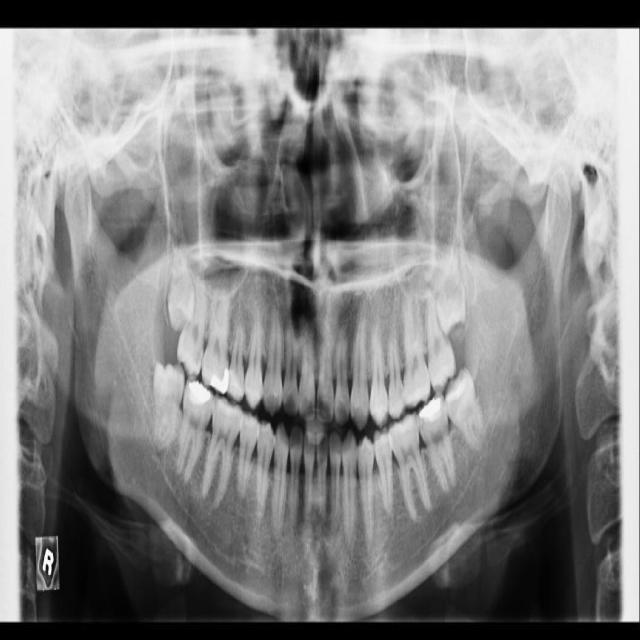3M ESPE Implant: (164, 227, 195, 333)
52: (433, 364, 486, 430), (177, 375, 218, 432), (414, 389, 451, 449), (194, 345, 238, 395)
73: (602, 597, 616, 608)
BioHorizons Implant: (419, 283, 459, 395)
BioLife Implant: (435, 237, 468, 337)
Biomet 3i Implant: (434, 364, 495, 464)
Blue Sky Bio Implant: (412, 389, 459, 499)
Caries: (175, 262, 211, 383)
Implant: (170, 374, 219, 485)
Keystone Dental Implant: (150, 361, 186, 456)
